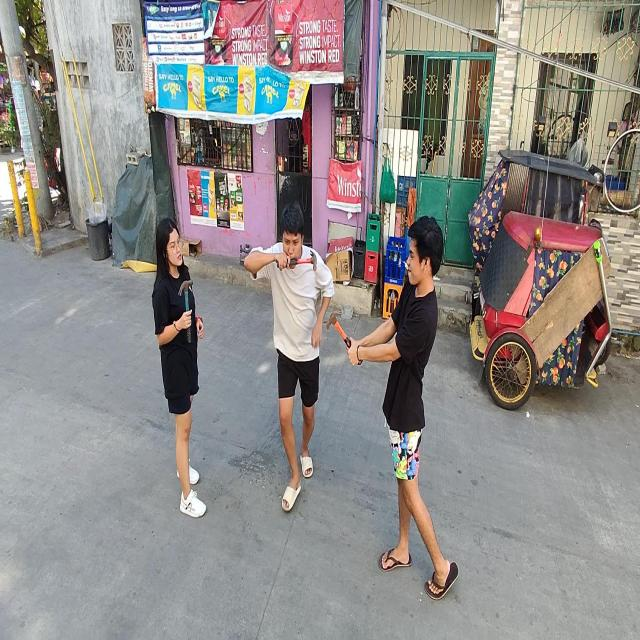hammer: (326, 310, 363, 365), (178, 280, 194, 343), (277, 249, 317, 272)
